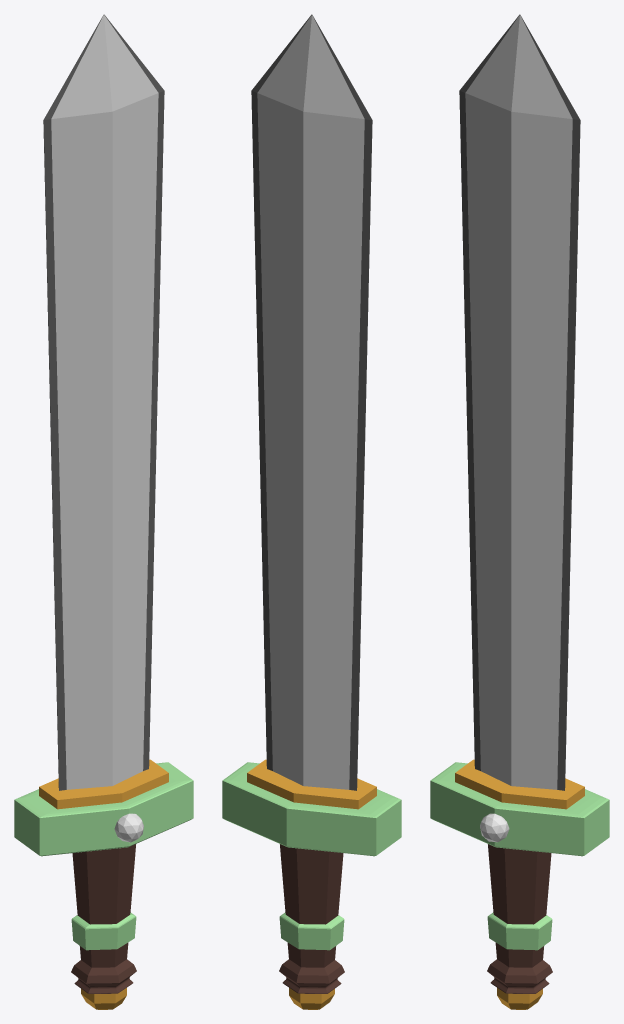
Rendered from swordTutorial.fbx.
3 views of the same model, side by side, from view 1: azimuth 30°, elevation 25°; view 2: azimuth 150°, elevation 25°; view 3: azimuth 330°, elevation 25° (orthographic).
Parts seen in each view (by area): view 1: Cylinder; view 2: Cylinder; view 3: Cylinder.
Boxes of the visible parts, bbox=[...] form: Cylinder: bbox=[14, 14, 193, 1009]; Cylinder: bbox=[222, 14, 401, 1009]; Cylinder: bbox=[430, 14, 609, 1009].
Bounding box in the file's own units: 353 × 2174 × 230.
